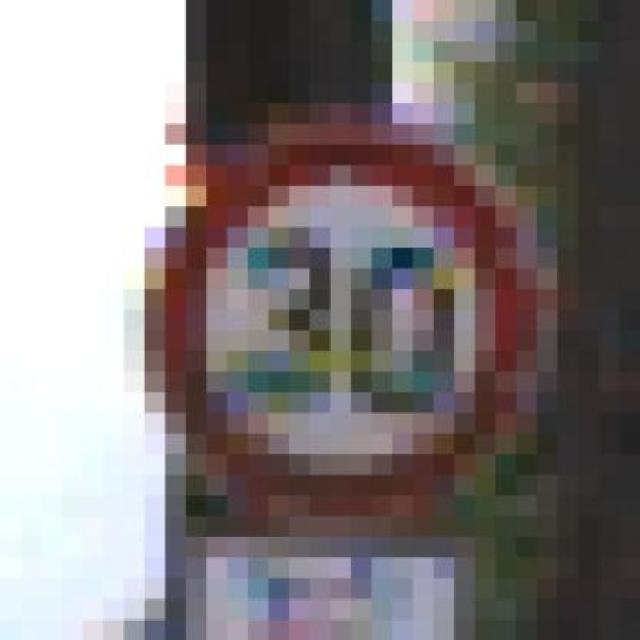forb_speed_over_30: (142, 141, 524, 522)
